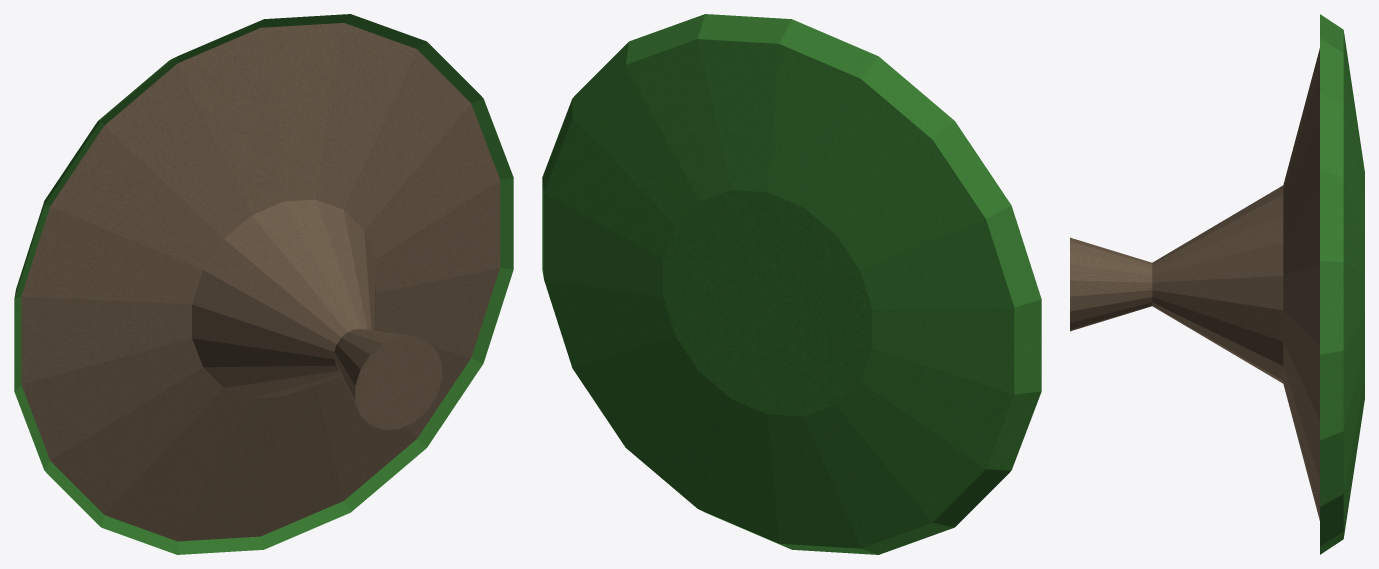
The model's file is green_land_7.FBX.
3 renders of one model, left to right at view 1: azimuth 30°, elevation 25°; view 2: azimuth 150°, elevation 25°; view 3: azimuth 270°, elevation 25°, orthographic. The views are drawn at different scales.
Parts seen in each view (by area): view 1: Cylinder.005; view 2: Cylinder.005; view 3: Cylinder.005.
Part boxes in pixels (box(x1,y1,x2,y2)): Cylinder.005: box(14, 14, 513, 554); Cylinder.005: box(542, 14, 1041, 554); Cylinder.005: box(1070, 14, 1364, 554).
Size of the model in its own units: 2098 by 2130 by 1157.
